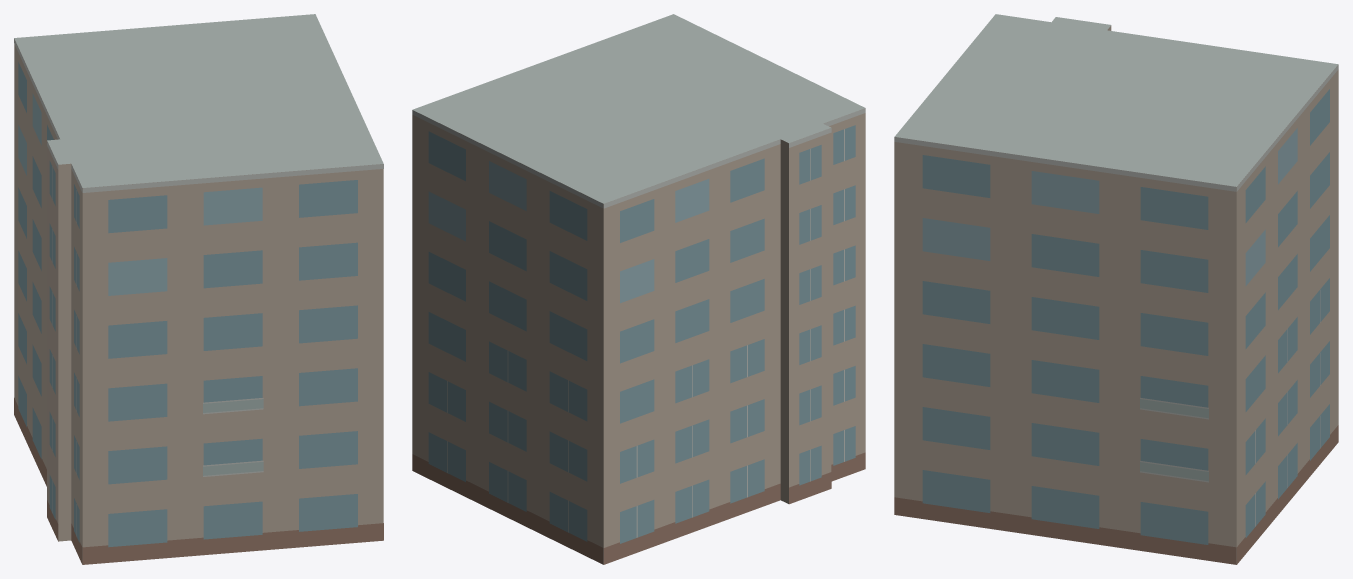
File: survey-upis-33011194.glb
3 renders of one model, left to right at view 1: azimuth 30°, elevation 25°; view 2: azimuth 150°, elevation 25°; view 3: azimuth 270°, elevation 25°, orthographic. The views are drawn at different scales.
Visible parts, largest first — view 1: survey-upis-33011194.tmp; view 2: survey-upis-33011194.tmp; view 3: survey-upis-33011194.tmp.
Boxes of the visible parts, x1=… form: survey-upis-33011194.tmp: x1=14, y1=14, x2=383, y2=564; survey-upis-33011194.tmp: x1=412, y1=14, x2=865, y2=564; survey-upis-33011194.tmp: x1=894, y1=14, x2=1338, y2=564.
Bounding box in the file's own units: 18.1 × 18.44 × 19.65.
